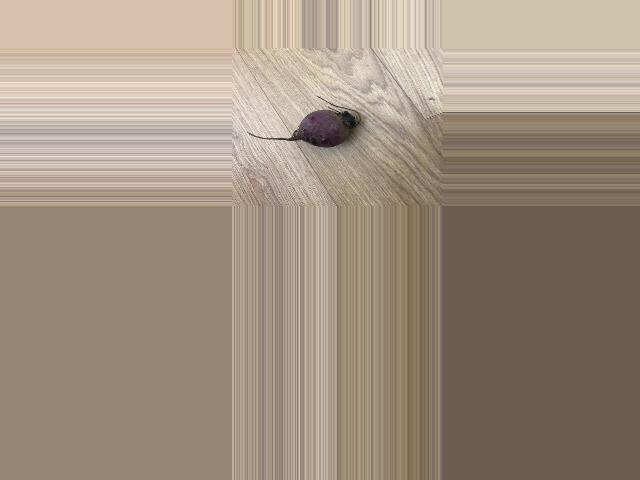beet: (246, 96, 360, 148)
